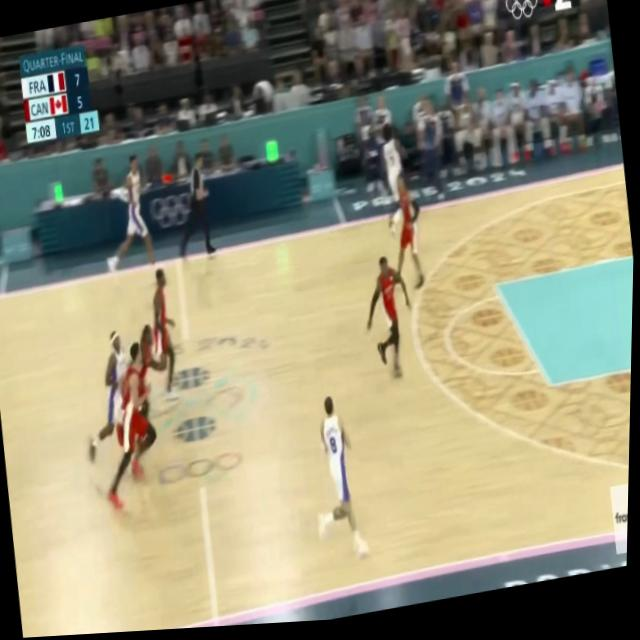ball_handler: (323, 402, 372, 561)
